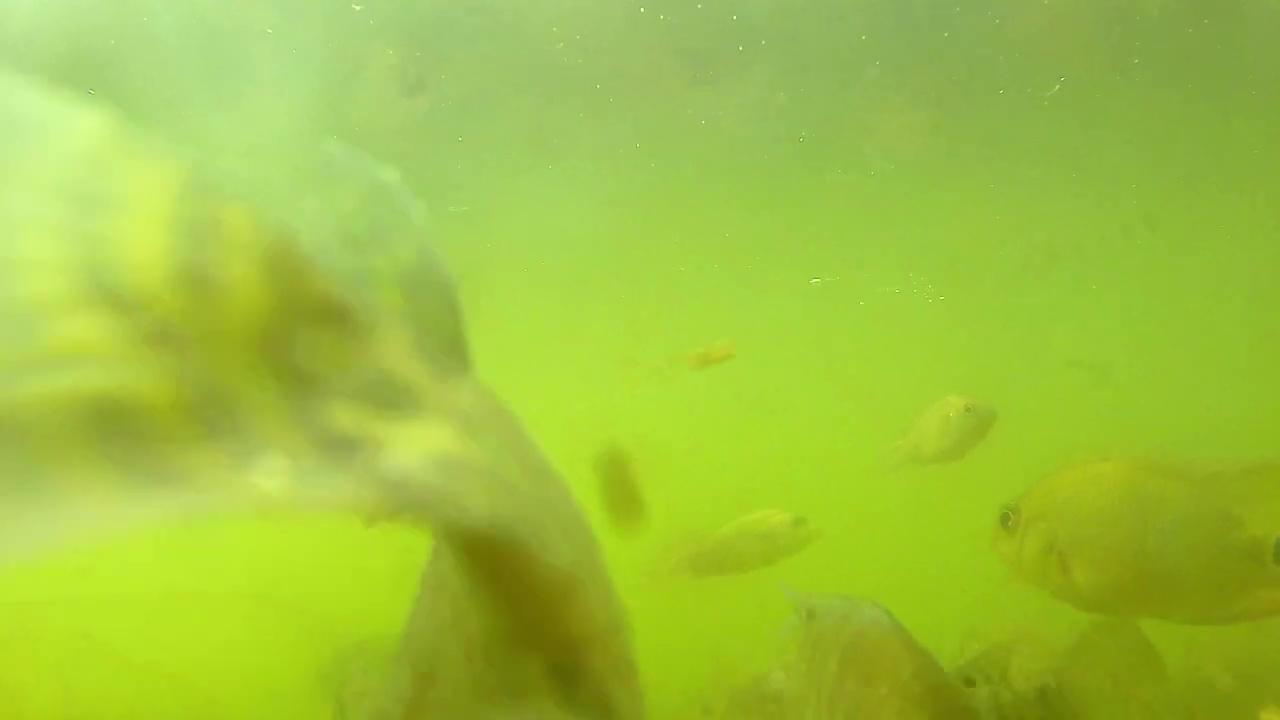Tilapia: (988, 462, 1279, 624), (782, 594, 975, 720), (657, 500, 826, 580), (895, 390, 1000, 480), (689, 330, 736, 376)
